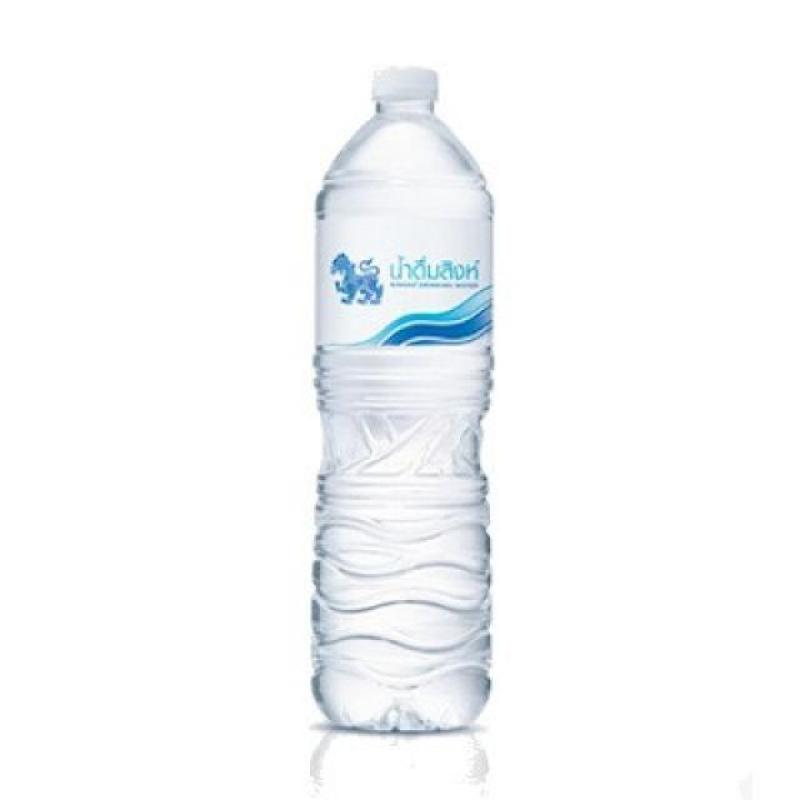botella: (311, 68, 494, 734)
